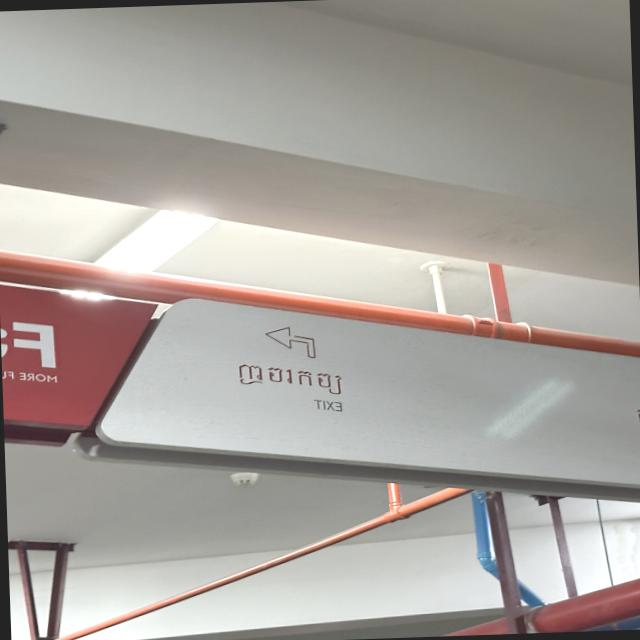Yolov11kh: (231, 357, 352, 397)
